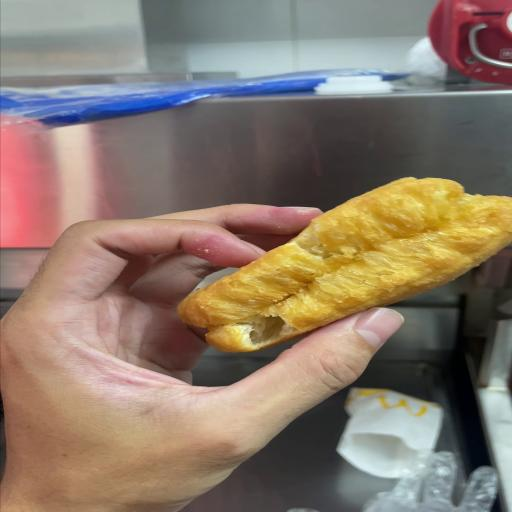brand_golden_defect: (178, 178, 512, 352)
